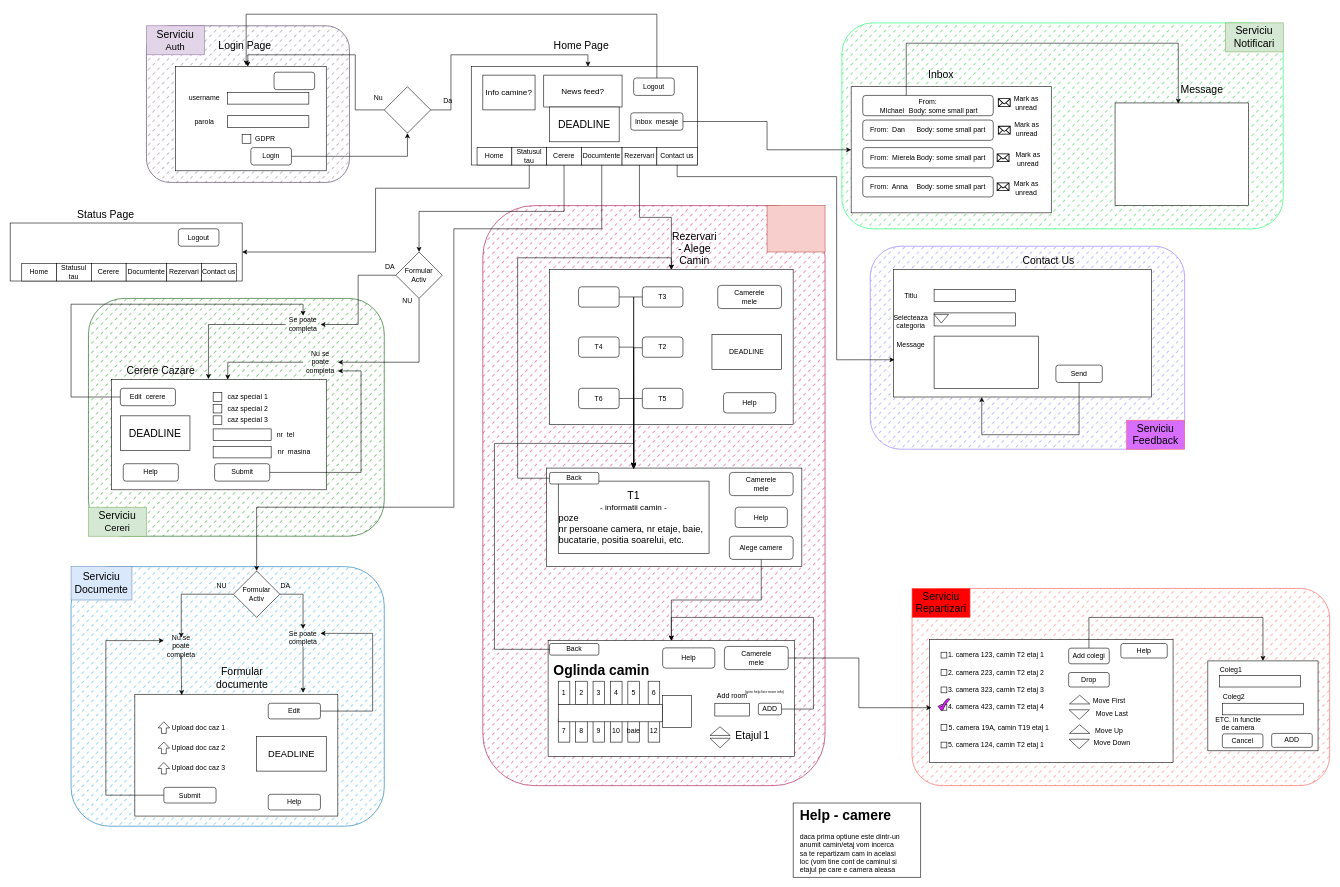
This 1340x887 diagram has some shape labels left out. Here are the shapes that lost their labels. From the top down, the box of each, then its label:
(273, 72, 315, 90): Back to Moodle
(384, 86, 431, 133): Credentiale corecte
(1114, 102, 1248, 206): From Title: Hi mai neim is marcoooooo haahhahahhahhhaha
(766, 205, 825, 252): Serviciu Camine
(10, 222, 242, 281): ex: Cerere cazare in prelucrare
(578, 286, 619, 307): T1
(558, 704, 663, 722): Hol
(662, 695, 692, 728): Scari
(714, 703, 750, 716): ex: 1, 2, 7
